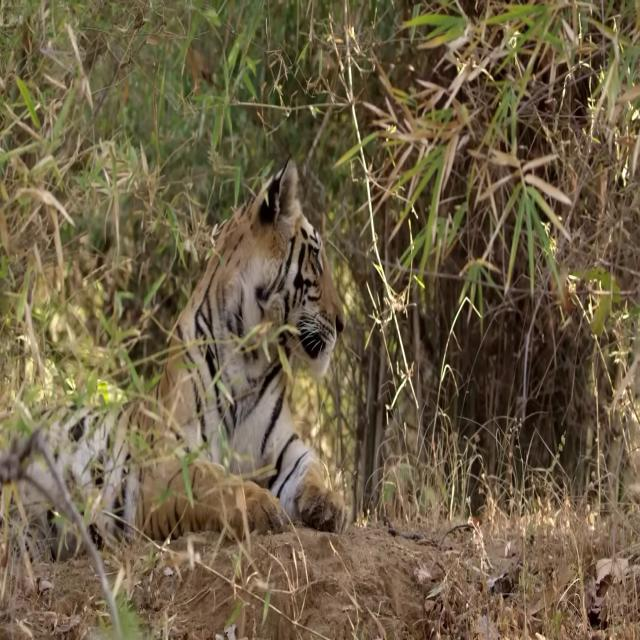tiger: (0, 157, 352, 545)
